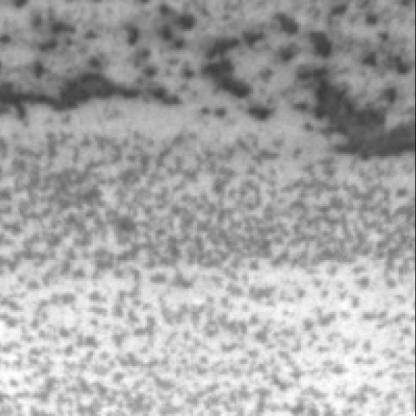patches: (314, 79, 414, 164)
pitted_surface: (0, 158, 410, 416), (0, 2, 404, 144)
